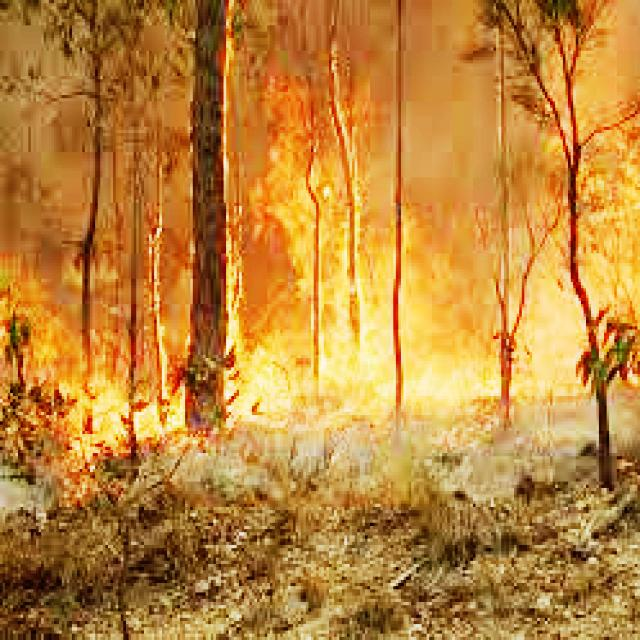api: (241, 273, 477, 417), (265, 93, 363, 272), (479, 255, 567, 405), (548, 57, 620, 176), (72, 380, 186, 450), (590, 192, 640, 343), (361, 221, 458, 280)
